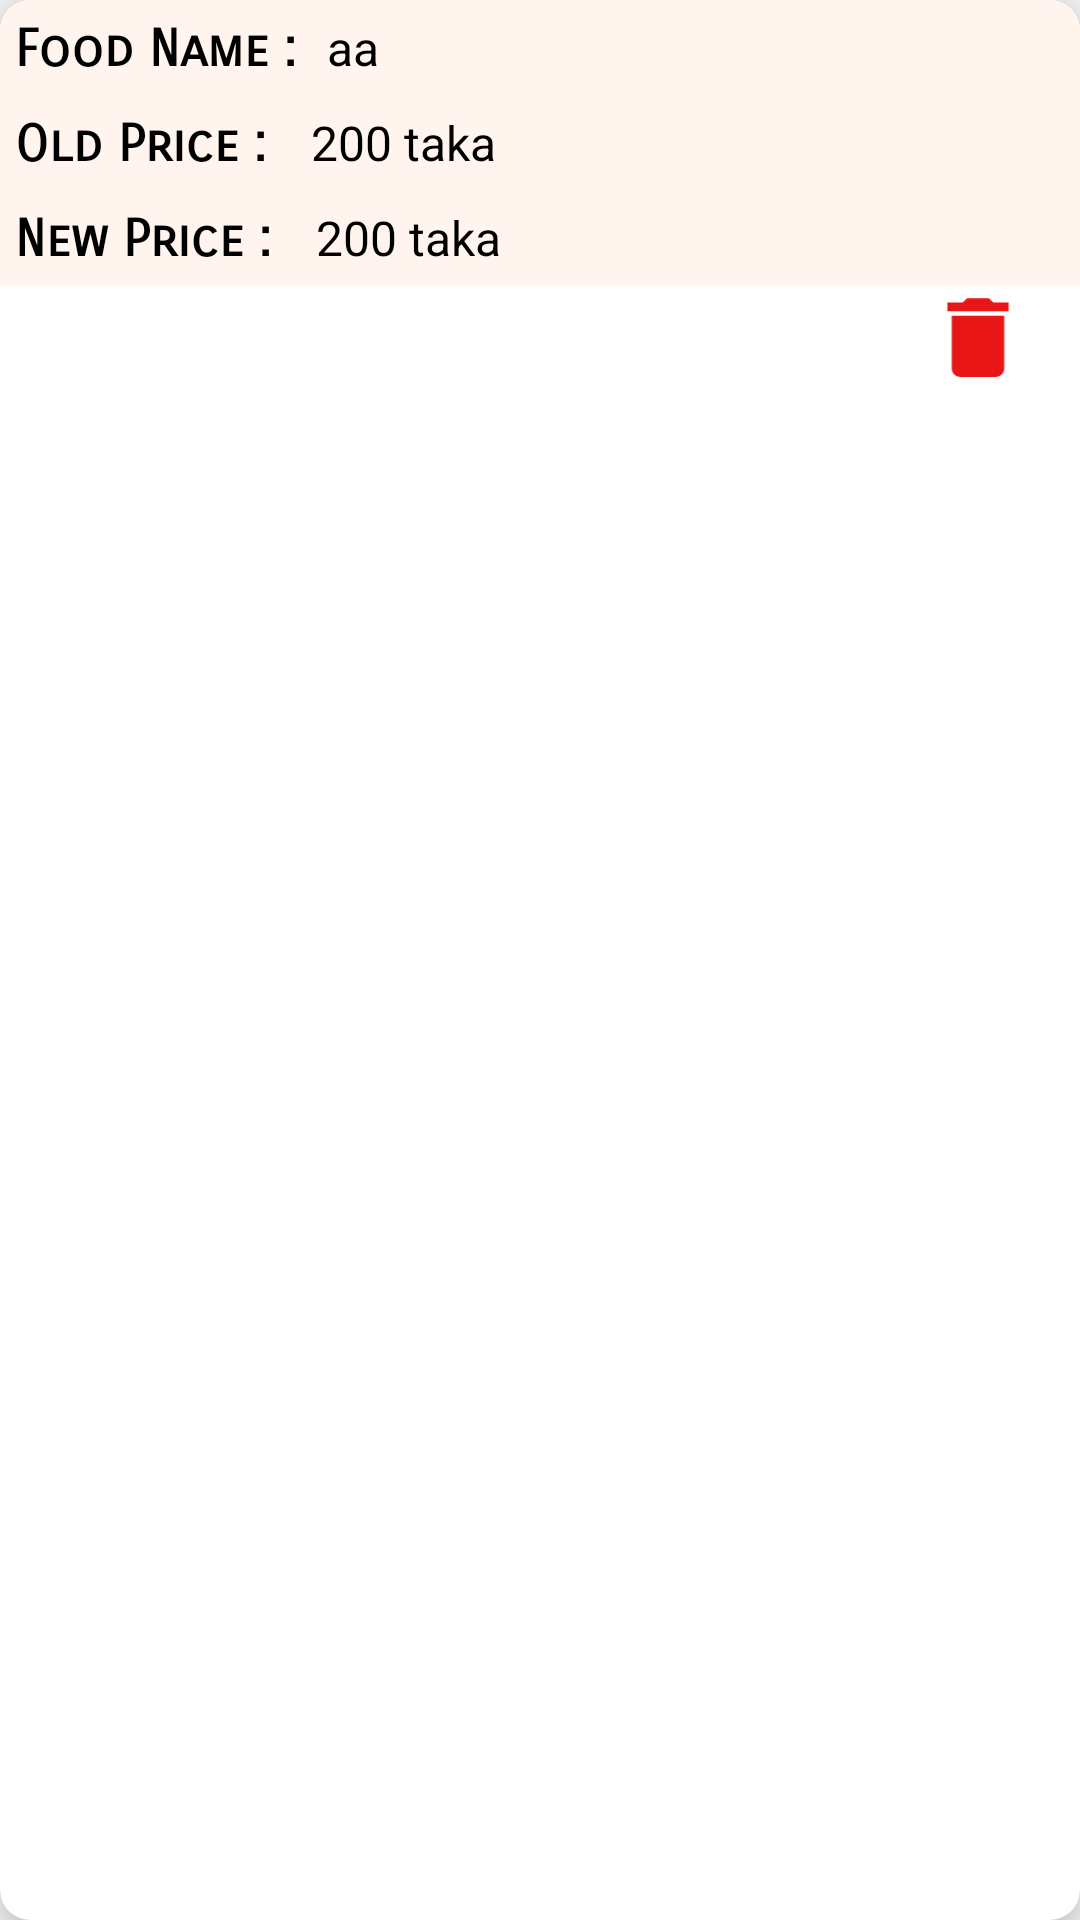

Named icons in this screenshot (1080px×1920px) and their bounding boxes, (x1, y1, x2, y2):
delete: (947, 298, 1009, 377)
